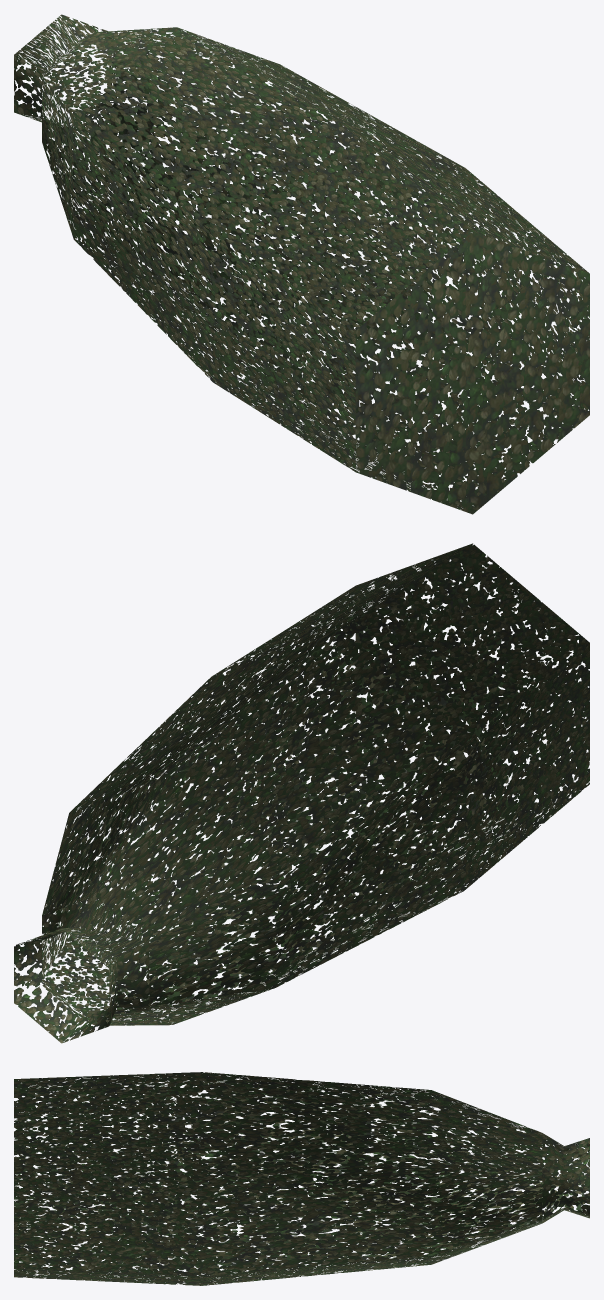
File: t5_foliage_hedge_rounded01_LOD2.obj
The picture shows the model from 3 angles, top to bottom: view 1: azimuth 30°, elevation 25°; view 2: azimuth 150°, elevation 25°; view 3: azimuth 270°, elevation 25°; orthographic projection. The views are drawn at different scales.
Parts seen in each view (by area): view 1: mtl_p6_foliage_hedge2; view 2: mtl_p6_foliage_hedge2; view 3: mtl_p6_foliage_hedge2.
Boxes of the visible parts, box(x1,y1,x2,y2) form: mtl_p6_foliage_hedge2: box(14, 14, 589, 514); mtl_p6_foliage_hedge2: box(14, 543, 589, 1043); mtl_p6_foliage_hedge2: box(14, 1072, 589, 1285).
Size of the model in its own units: 96.28 by 111 by 271.
